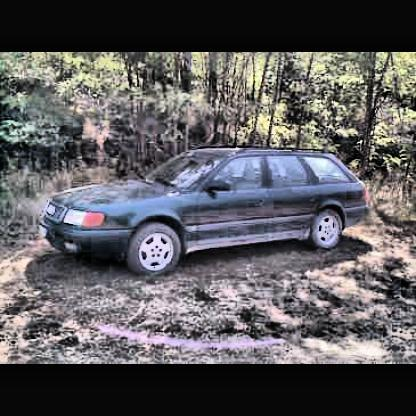Audi 100 Wagon 1994: (39, 145, 374, 279)
